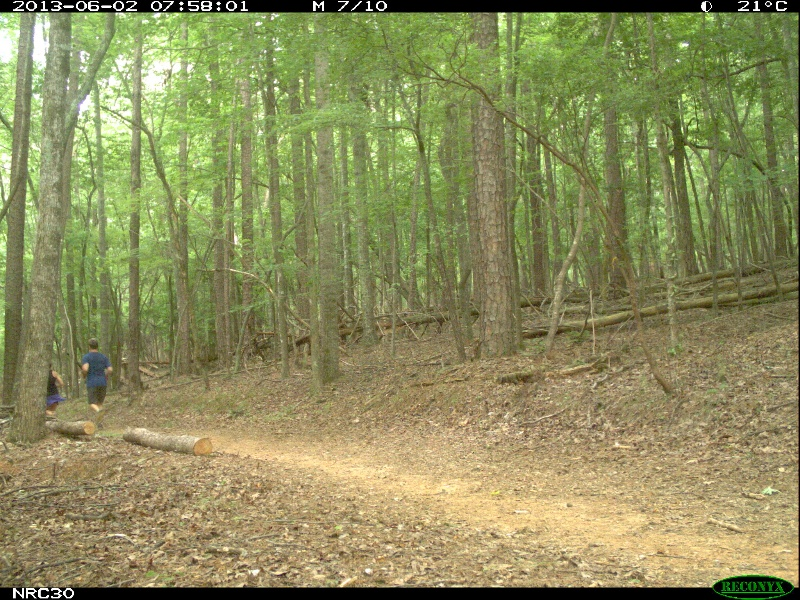human: (79, 338, 117, 428), (41, 361, 65, 427)
human legs: (87, 381, 106, 426)
